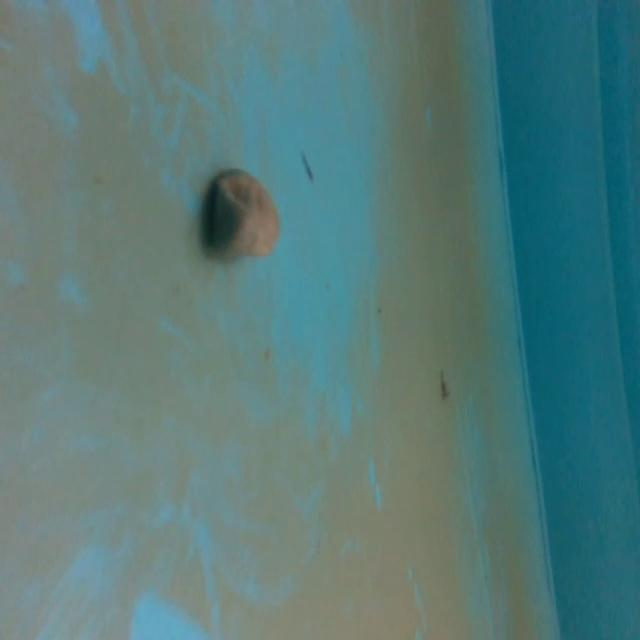rock: (203, 163, 290, 270)
